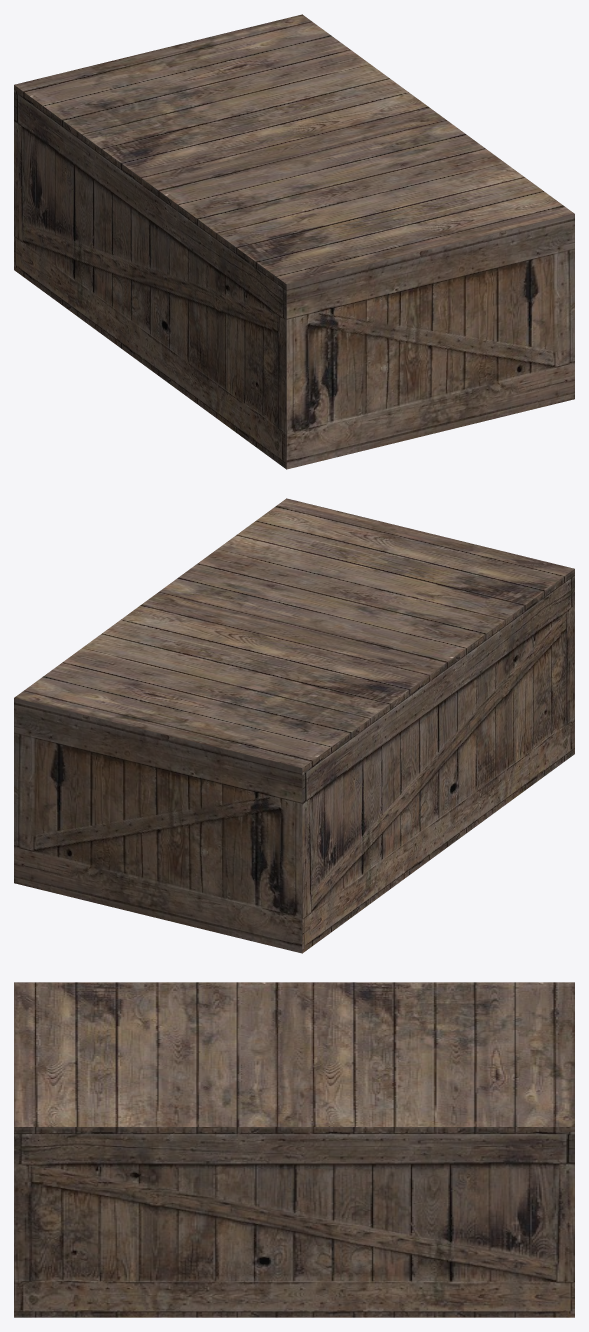
The model's file is Wooden_box_v1_LD1.glb.
3 views of the same model, one above another, from view 1: azimuth 30°, elevation 25°; view 2: azimuth 150°, elevation 25°; view 3: azimuth 270°, elevation 25° (orthographic). The views are drawn at different scales.
Parts seen in each view (by area): view 1: Wooden_box_v1_LD1; view 2: Wooden_box_v1_LD1; view 3: Wooden_box_v1_LD1.
Boxes of the visible parts, left/top/right/bottom form: Wooden_box_v1_LD1: left=14, top=14, right=574, bottom=469; Wooden_box_v1_LD1: left=14, top=498, right=574, bottom=953; Wooden_box_v1_LD1: left=14, top=982, right=574, bottom=1317.
Bounding box in the file's own units: 1.09 × 0.6714 × 1.79.
1 material, 1 textured.
